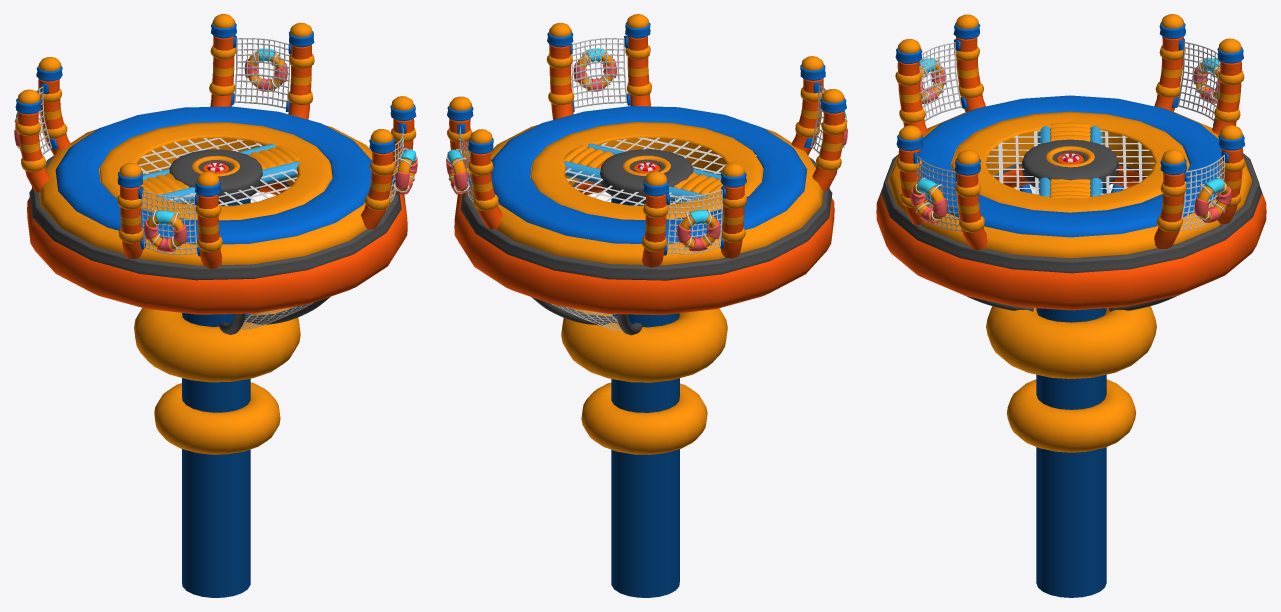
Rendered from ring2 (1).fbx.
The picture shows the model from 3 angles, left to right: view 1: azimuth 30°, elevation 25°; view 2: azimuth 150°, elevation 25°; view 3: azimuth 270°, elevation 25°; orthographic projection. The views are drawn at different scales.
Parts seen in each view (by area): view 1: base, walls, details, nets; view 2: base, walls, details, nets; view 3: base, walls, details, nets.
Boxes of the visible parts, x1=… form: base: x1=27, y1=106, x2=407, y2=597; walls: x1=14, y1=14, x2=417, y2=268; details: x1=134, y1=307, x2=300, y2=454; nets: x1=218, y1=296, x2=330, y2=334; base: x1=454, y1=106, x2=834, y2=597; walls: x1=446, y1=14, x2=847, y2=267; details: x1=561, y1=308, x2=727, y2=454; nets: x1=531, y1=297, x2=642, y2=335; base: x1=876, y1=95, x2=1266, y2=597; walls: x1=895, y1=14, x2=1245, y2=250; details: x1=986, y1=306, x2=1156, y2=452; nets: x1=966, y1=184, x2=1176, y2=311.
Size of the model in its own units: 2993 by 4228 by 2993.
